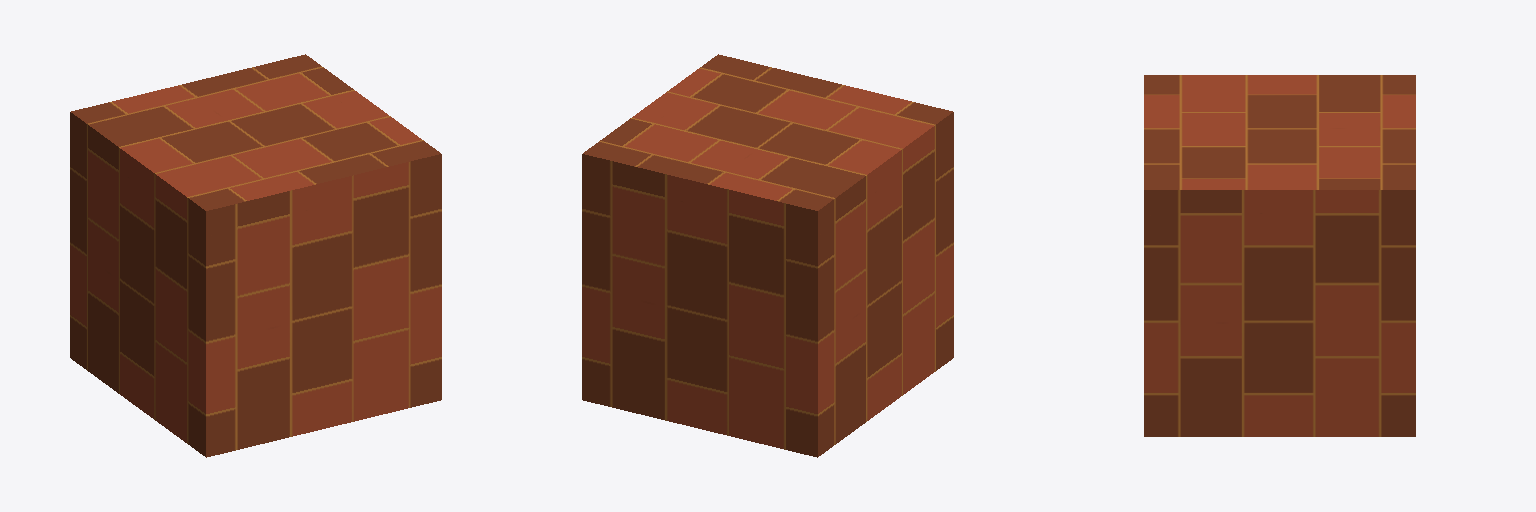
3 views of the same model, side by side, from view 1: azimuth 30°, elevation 25°; view 2: azimuth 150°, elevation 25°; view 3: azimuth 270°, elevation 25° (orthographic).
Parts seen in each view (by area): view 1: 立方体; view 2: 立方体; view 3: 立方体.
Part boxes in pixels (x1,y1,x2,y2): 立方体: (70, 54, 441, 457); 立方体: (582, 54, 953, 457); 立方体: (1144, 75, 1415, 436).
Size of the model in its own units: 2 by 2 by 2.
1 materials, 1 textured.